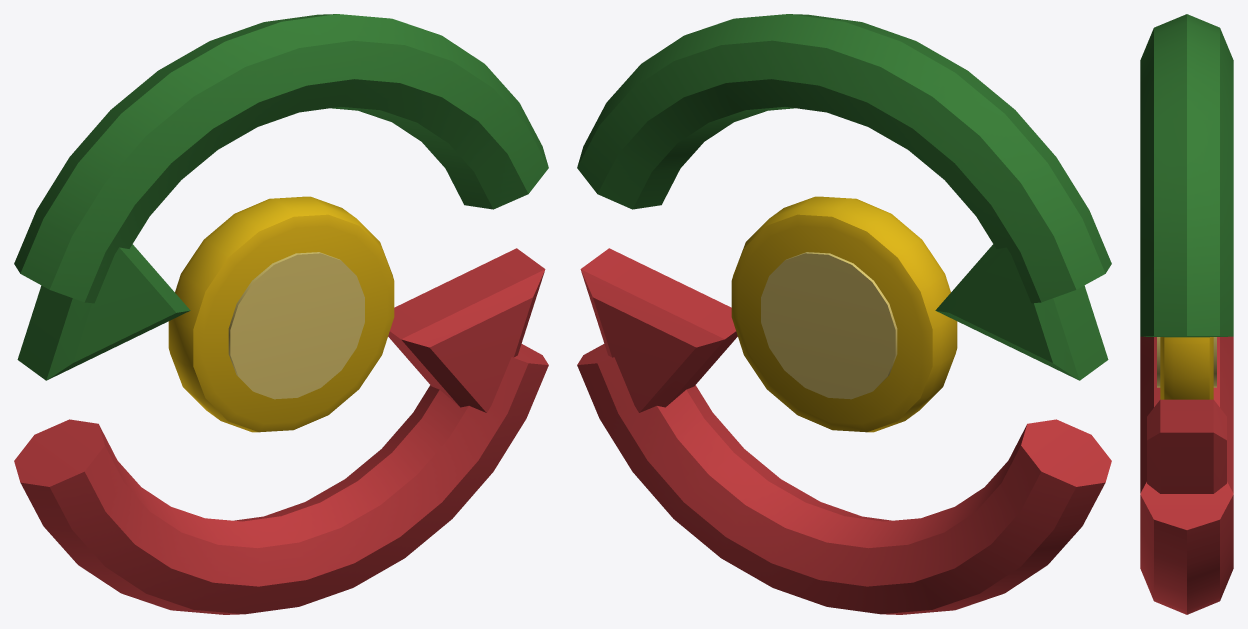
The model's file is ui_trade.glb.
The picture shows the model from 3 angles, left to right: view 1: azimuth 30°, elevation 25°; view 2: azimuth 150°, elevation 25°; view 3: azimuth 270°, elevation 25°; orthographic projection. The views are drawn at different scales.
Parts seen in each view (by area): view 1: body; view 2: body; view 3: body.
Boxes of the visible parts, x1=… form: body: x1=14, y1=14, x2=548, y2=614; body: x1=577, y1=14, x2=1111, y2=614; body: x1=1140, y1=14, x2=1233, y2=614.
Bounding box in the file's own units: 0.4201 × 0.45 × 0.07.
